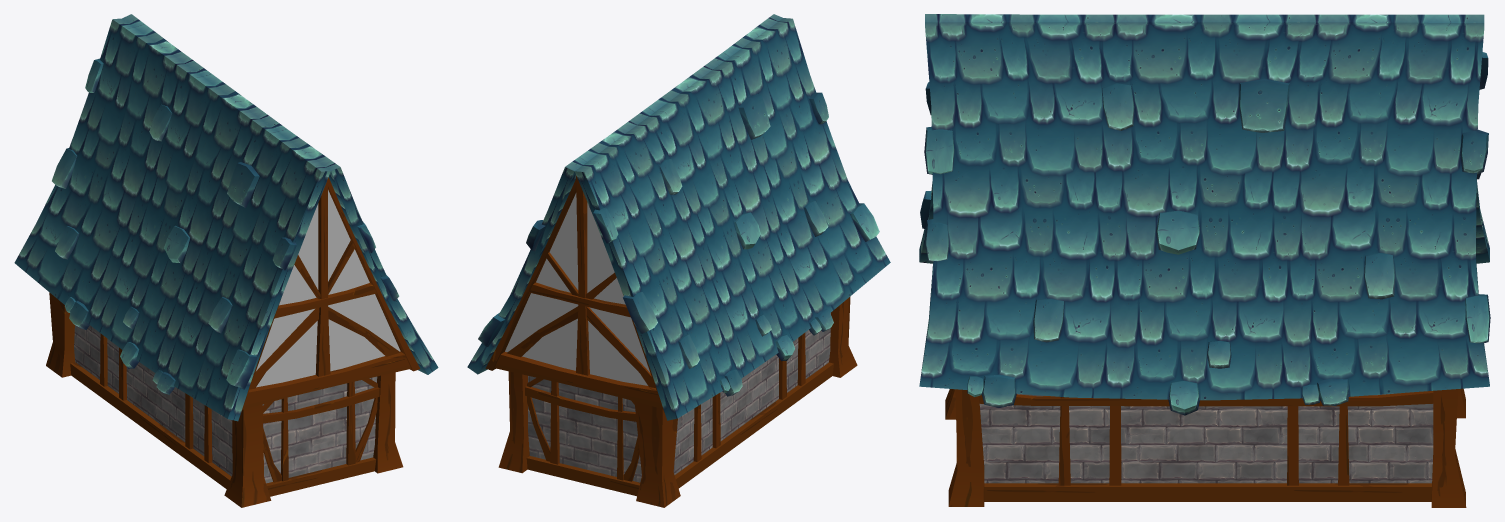
Rendered from SM_BLD_body_v04_01.fbx.
3 views of the same model, side by side, from view 1: azimuth 30°, elevation 25°; view 2: azimuth 150°, elevation 25°; view 3: azimuth 270°, elevation 25° (orthographic). The views are drawn at different scales.
Visible parts, largest first — view 1: SM_BLD_body_v04_01; view 2: SM_BLD_body_v04_01; view 3: SM_BLD_body_v04_01.
Part boxes in pixels (bbox=[...]): SM_BLD_body_v04_01: bbox=[14, 14, 438, 507]; SM_BLD_body_v04_01: bbox=[467, 14, 890, 507]; SM_BLD_body_v04_01: bbox=[919, 14, 1490, 507].
Size of the model in its own units: 759 by 1078 by 1288.
